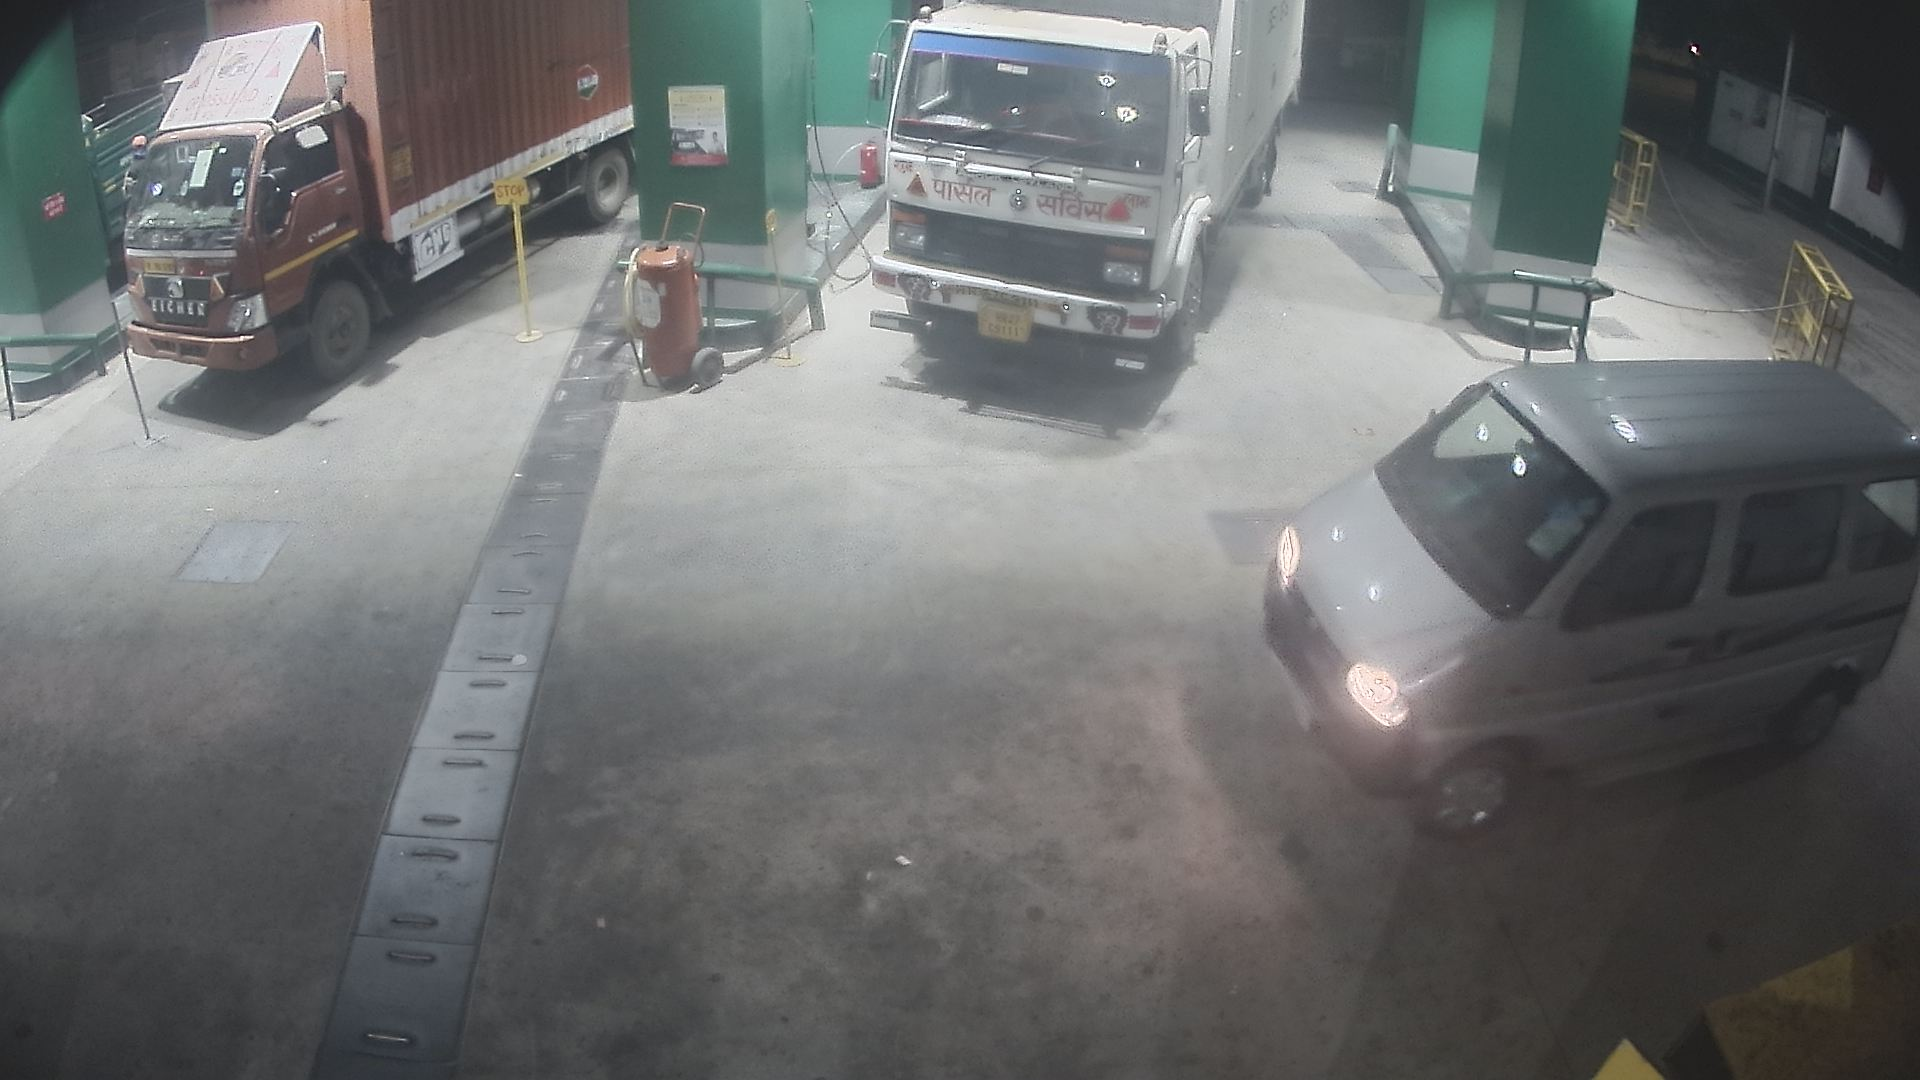Auto: (59, 38, 229, 309)
Car: (1242, 324, 1912, 860)
HMV: (83, 0, 657, 410), (829, 0, 1323, 401)
Others Other: (488, 156, 560, 360), (104, 262, 171, 450), (756, 186, 812, 377)
